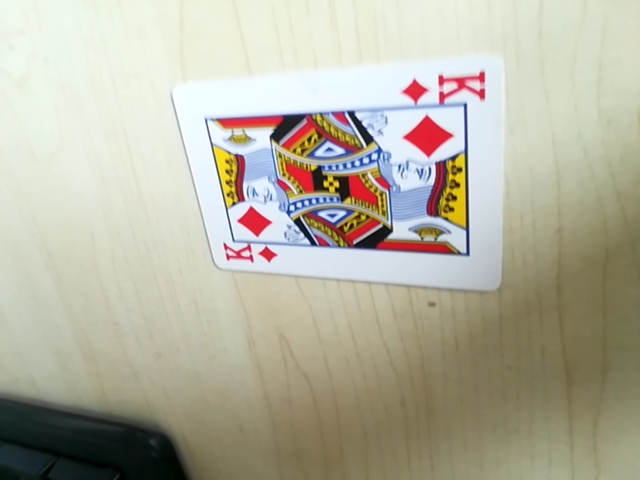fk k: (404, 62, 494, 109), (216, 238, 278, 269)
